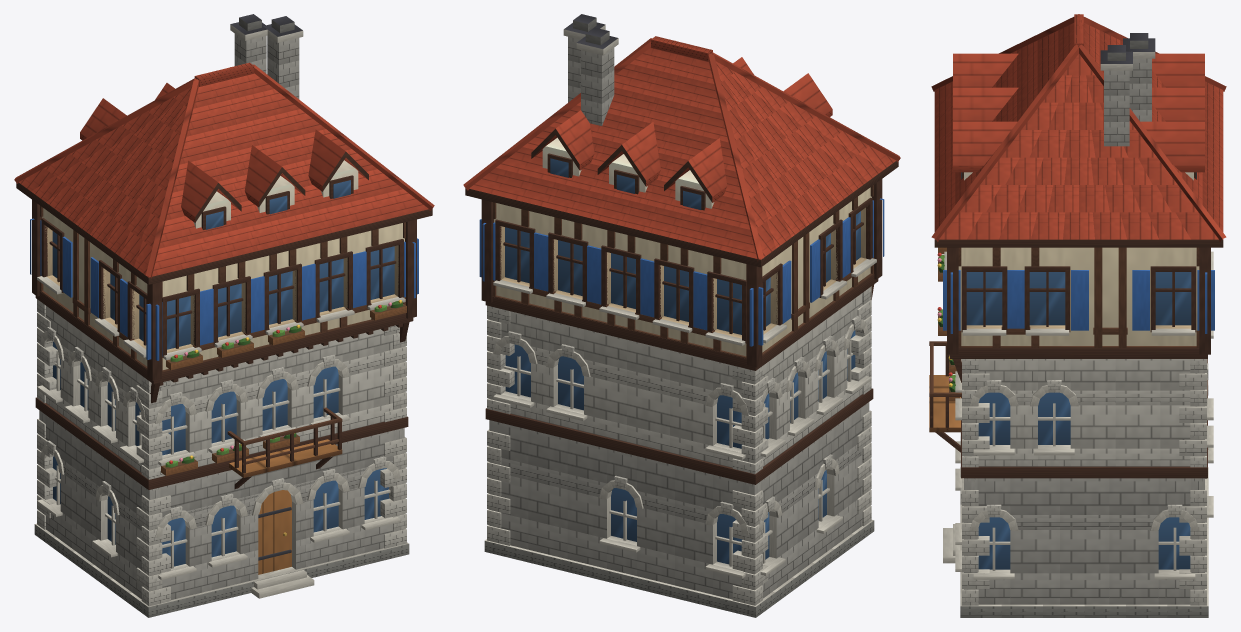
Rendered from res_manor_01.glb.
The picture shows the model from 3 angles, left to right: view 1: azimuth 30°, elevation 25°; view 2: azimuth 150°, elevation 25°; view 3: azimuth 270°, elevation 25°; orthographic projection. The views are drawn at different scales.
Parts seen in each view (by area): view 1: res_manor_01; view 2: res_manor_01; view 3: res_manor_01.
Boxes of the visible parts, box(x1,y1,x2,y2) form: res_manor_01: box(14, 14, 434, 617); res_manor_01: box(463, 14, 900, 617); res_manor_01: box(929, 14, 1226, 617).
Bounding box in the file's own units: 9.95 × 16.26 × 8.11.
1 material, 1 textured.
